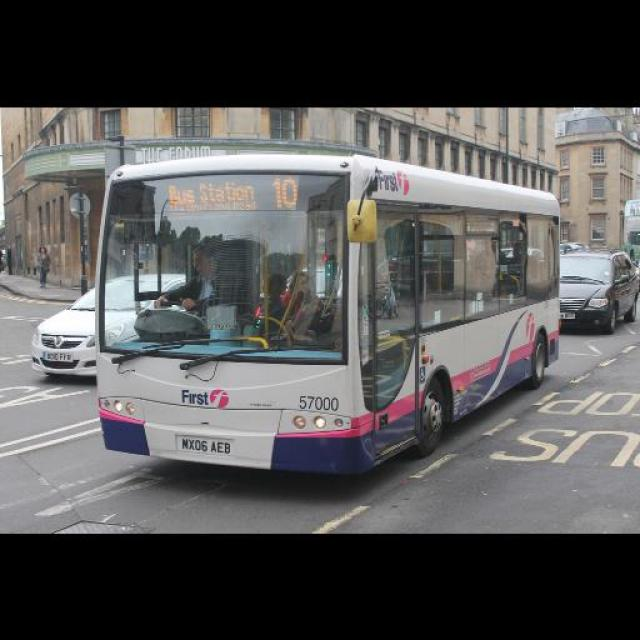Bus: (98, 156, 562, 468)
